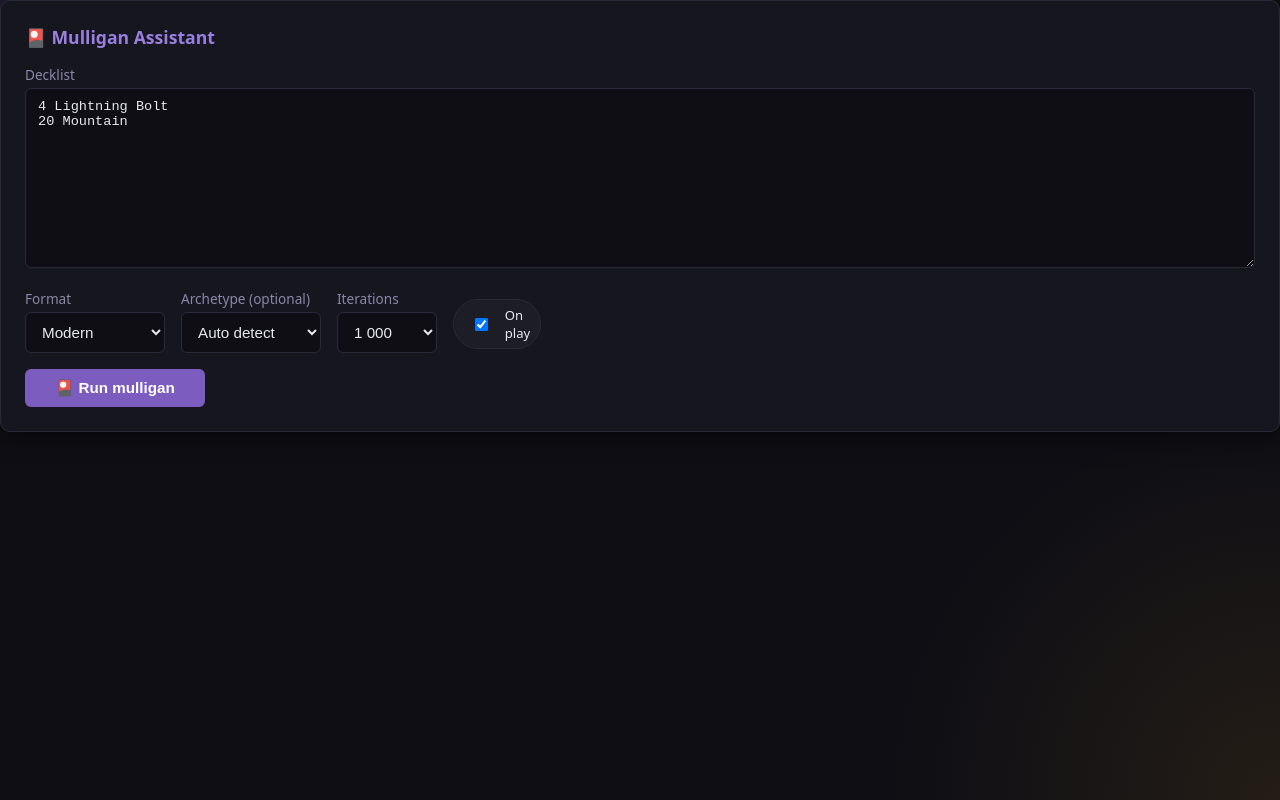
Test: MulliganAssistant › shows backend error message on failure
This screenshot has width=1280, height=800.
Click the button "🎴 Run mulligan". click: [115, 388]
box: left=25, top=369, right=205, bottom=407
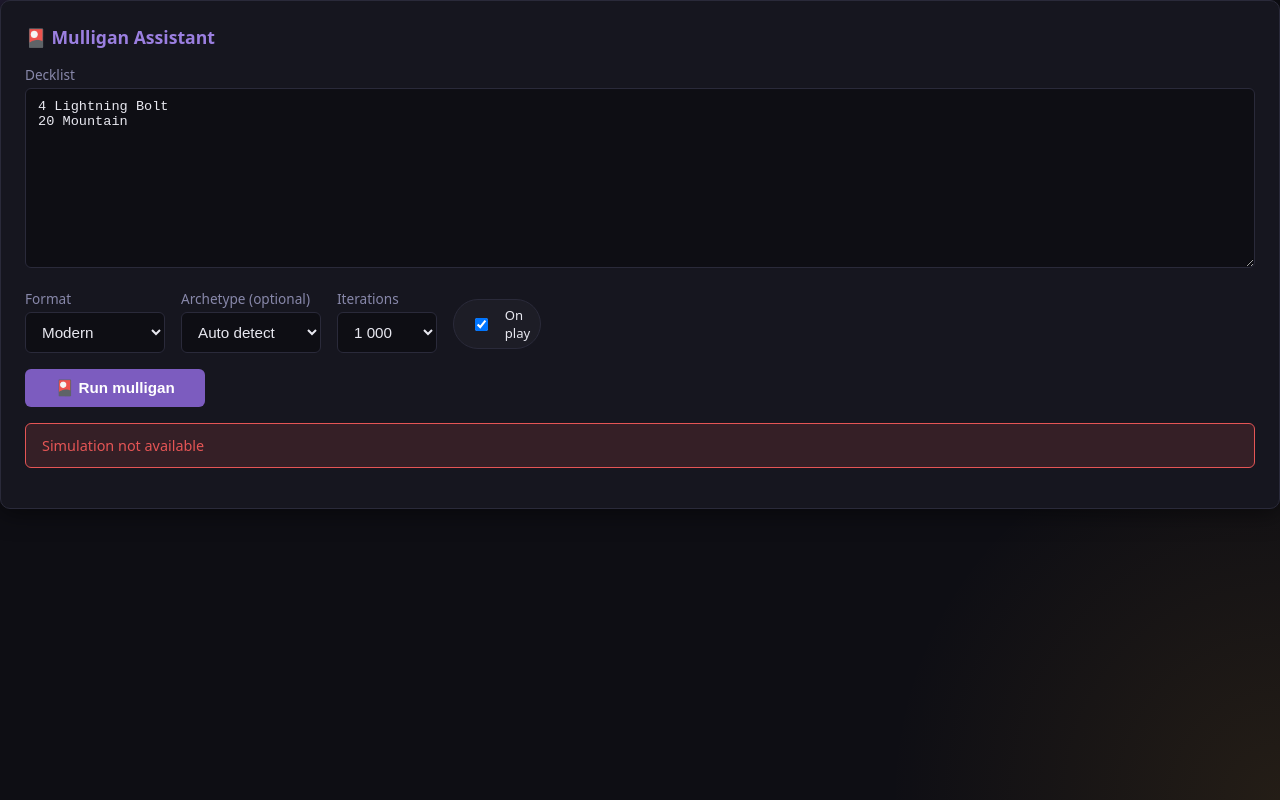
Expected: the text "Simulation not available" is shown, left=25, top=423, right=1255, bottom=468
